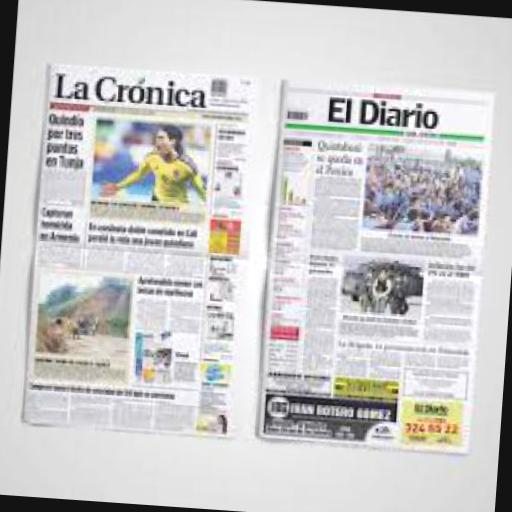paper: (18, 57, 254, 436), (253, 78, 492, 452)
